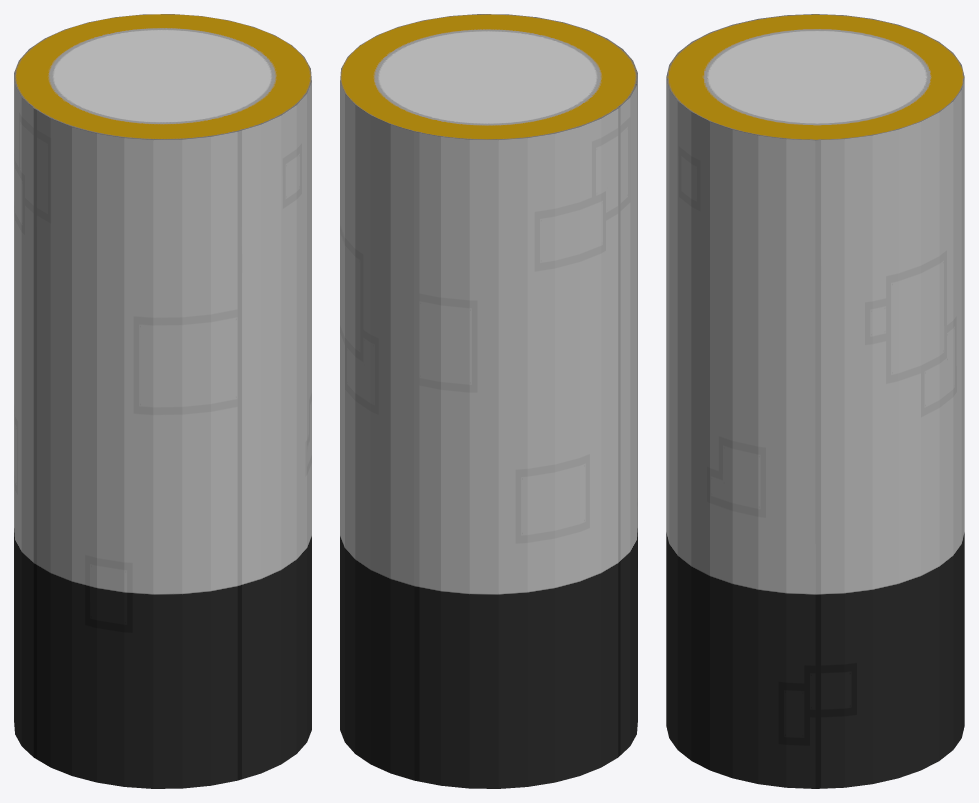
File: 125long.fbx
The picture shows the model from 3 angles, left to right: view 1: azimuth 30°, elevation 25°; view 2: azimuth 150°, elevation 25°; view 3: azimuth 270°, elevation 25°; orthographic projection.
Visible parts, largest first — view 1: Cylinder; view 2: Cylinder; view 3: Cylinder.
Boxes of the visible parts, box(x1,y1,x2,y2) form: Cylinder: box(14, 14, 311, 788); Cylinder: box(340, 14, 637, 788); Cylinder: box(666, 14, 964, 788).
Size of the model in its own units: 125 by 300 by 125.
